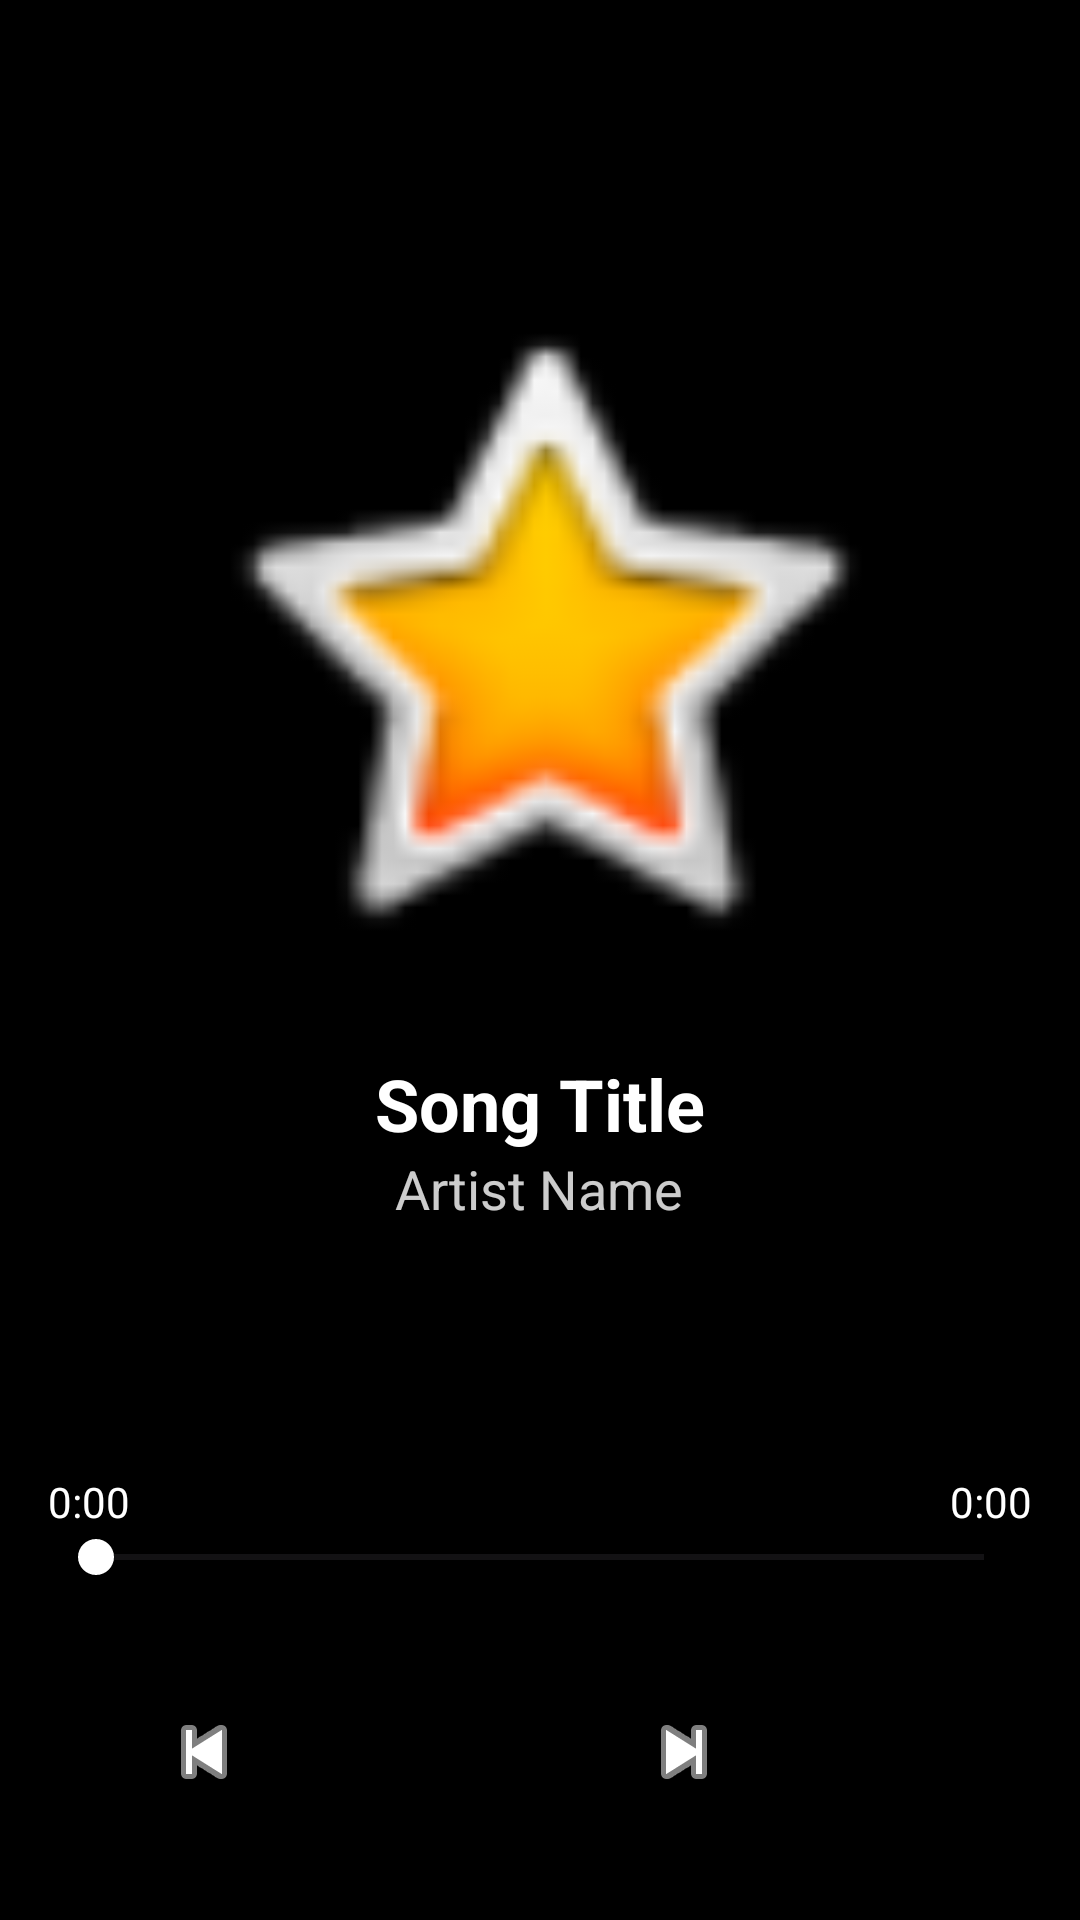

Icons on this 1080w x 1920h Android screen, each with the point to tap as point (x, y):
next: point (684, 1752)
previous: point (204, 1752)
